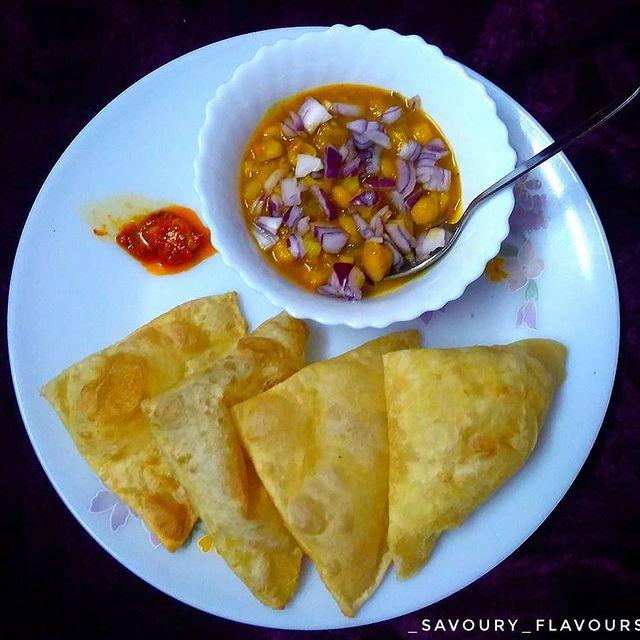Chole: (206, 46, 524, 318)
